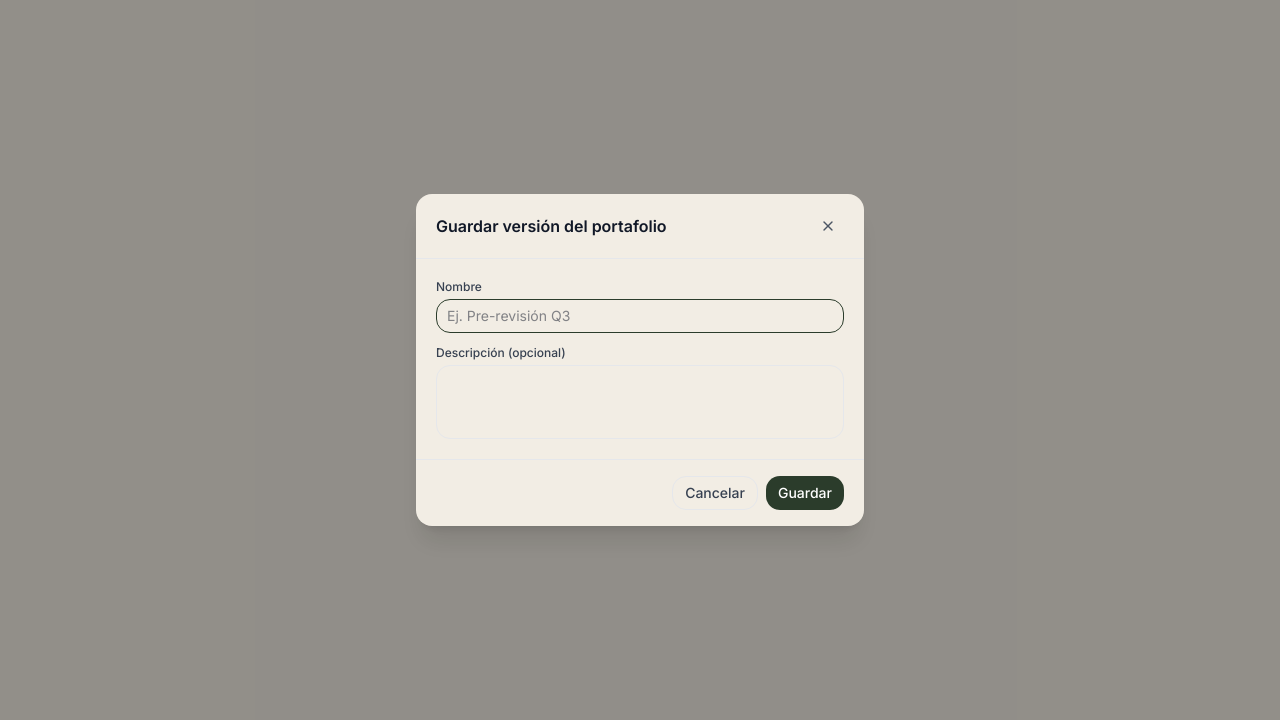
Test case: SnapshotModal — creation flow (SNAP-007) › a failed creation surfaces a visible inline error and keeps the modal open
Type "Cierre 2026" into the field with placeholder "Ej. Pre-revisión Q3". click: [640, 316]
box: [436,299,844,333]
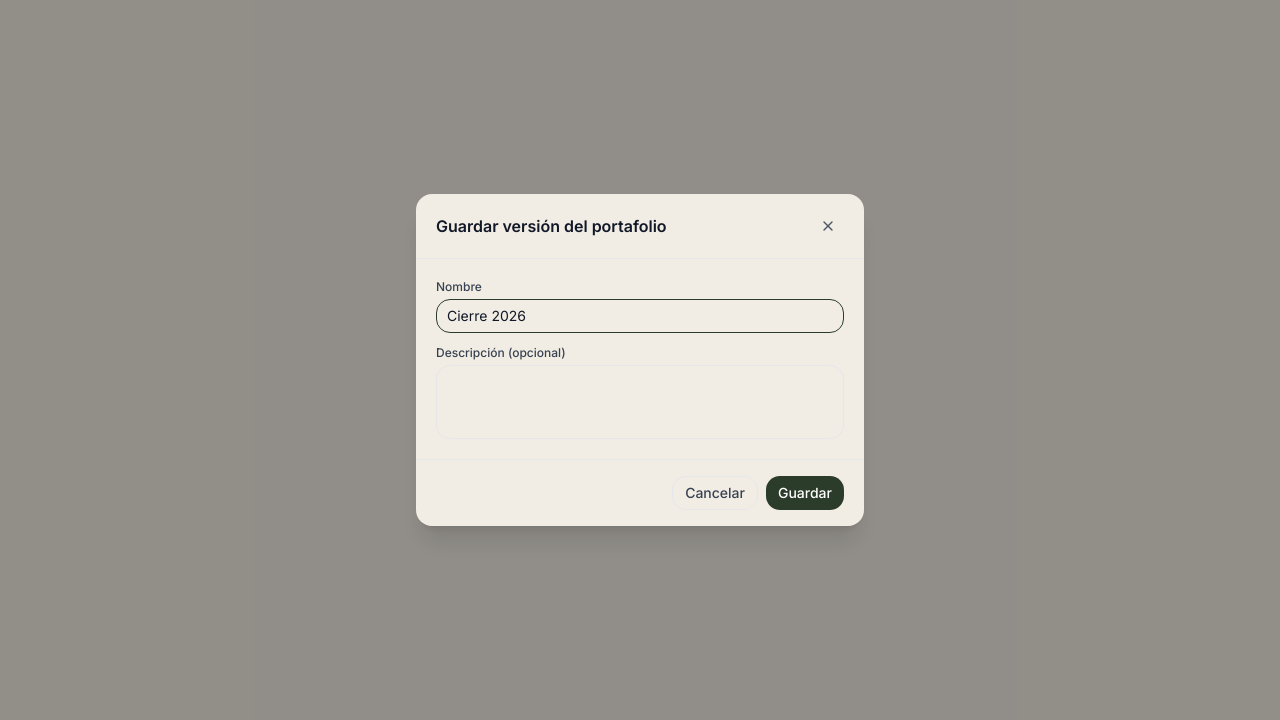
Click the button "Guardar". click: [805, 493]
box: [766,476,844,510]
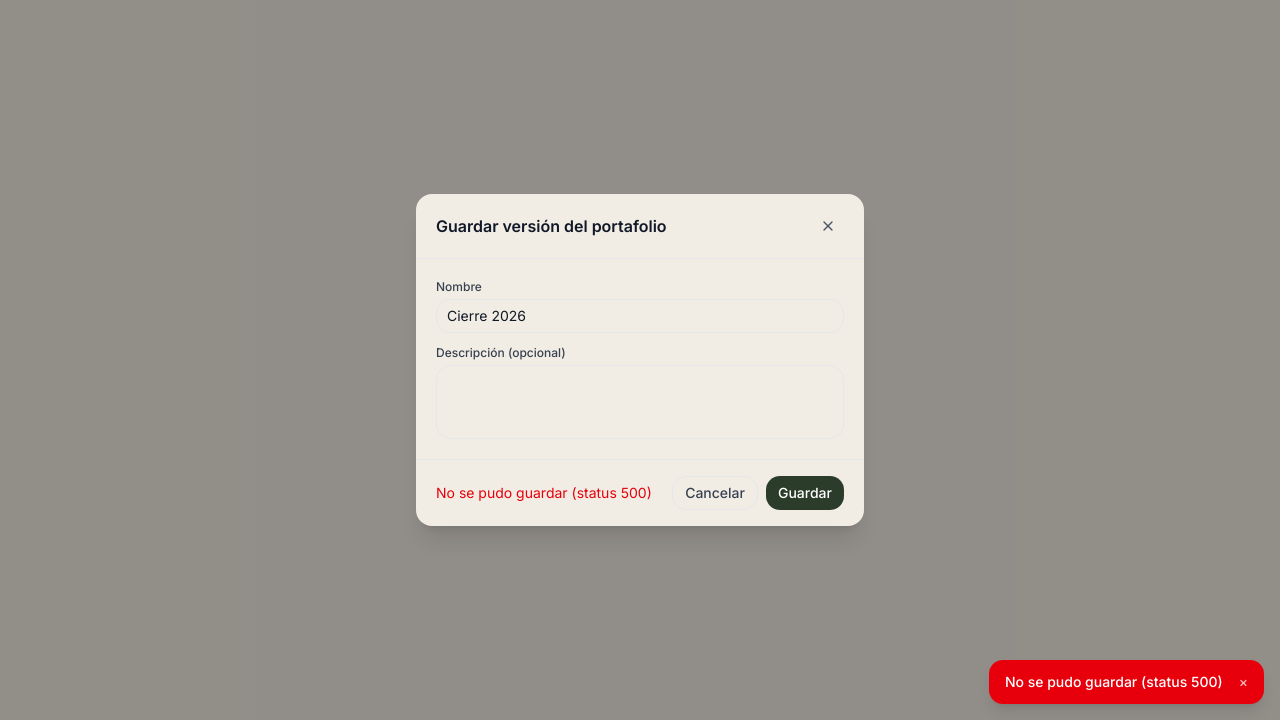
Now the text "No se pudo guardar (status 500)" below "Descripción (opcional)" is shown, box [436,484,652,501]
